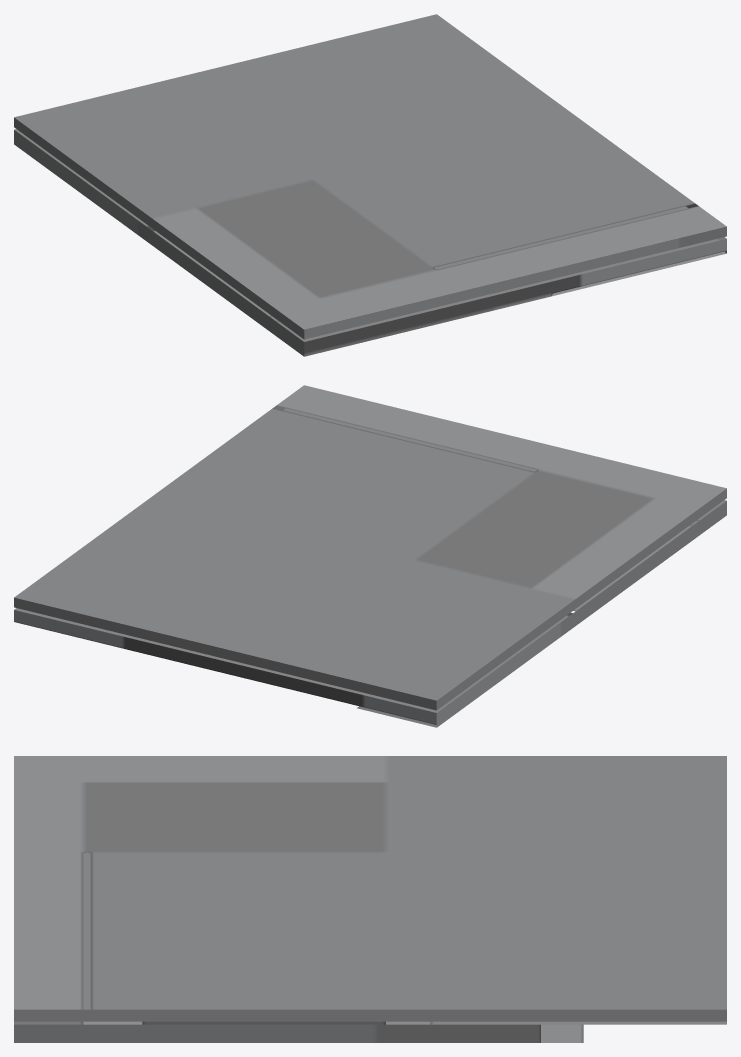
The picture shows the model from 3 angles, top to bottom: view 1: azimuth 30°, elevation 25°; view 2: azimuth 150°, elevation 25°; view 3: azimuth 270°, elevation 25°; orthographic projection. The views are drawn at different scales.
Size of the model in its own units: 0.9 by 0.055 by 1.07.
